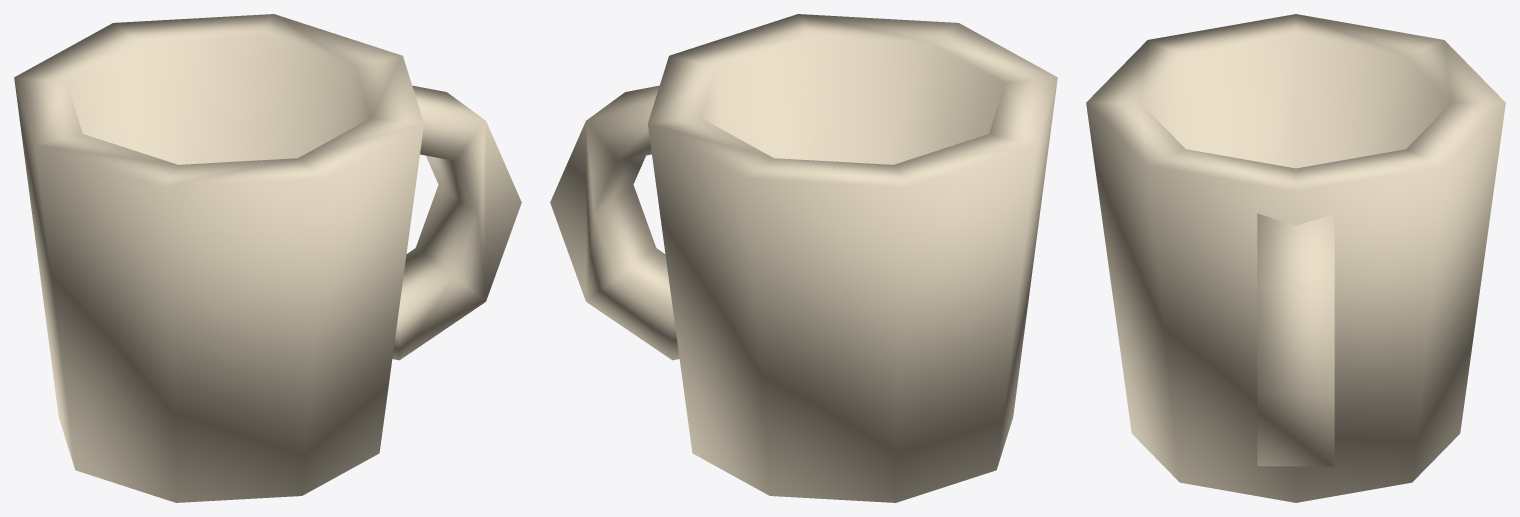
File: sill-mug.glb
The picture shows the model from 3 angles, left to right: view 1: azimuth 30°, elevation 25°; view 2: azimuth 150°, elevation 25°; view 3: azimuth 270°, elevation 25°; orthographic projection.
Parts seen in each view (by area): view 1: sill-mug; view 2: sill-mug; view 3: sill-mug.
Part boxes in pixels (x1=…): sill-mug: x1=14, y1=14, x2=521, y2=502; sill-mug: x1=550, y1=14, x2=1057, y2=502; sill-mug: x1=1086, y1=14, x2=1505, y2=502.
Size of the model in its own units: 0.2921 by 0.2 by 0.23.
